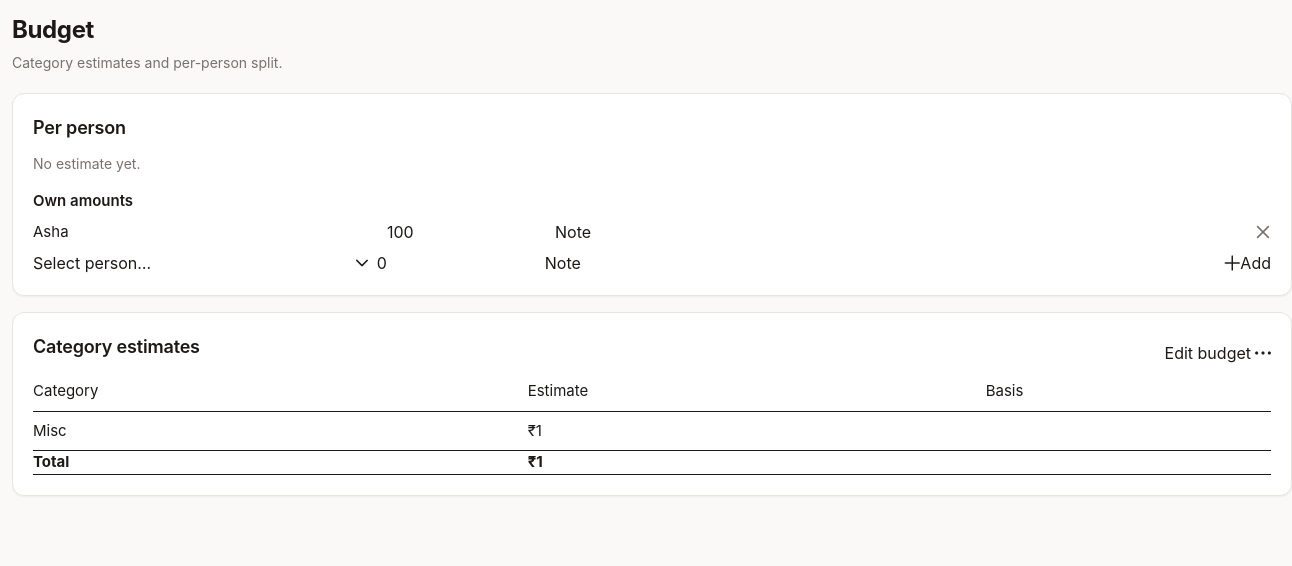
TripBudgetView › Edit budget reveals Save budget + Cancel and switches BudgetTable to editing
This screenshot has width=1292, height=566.
Click the button "Edit budget". click: [1208, 352]
box: 1164,342 -> 1251,362
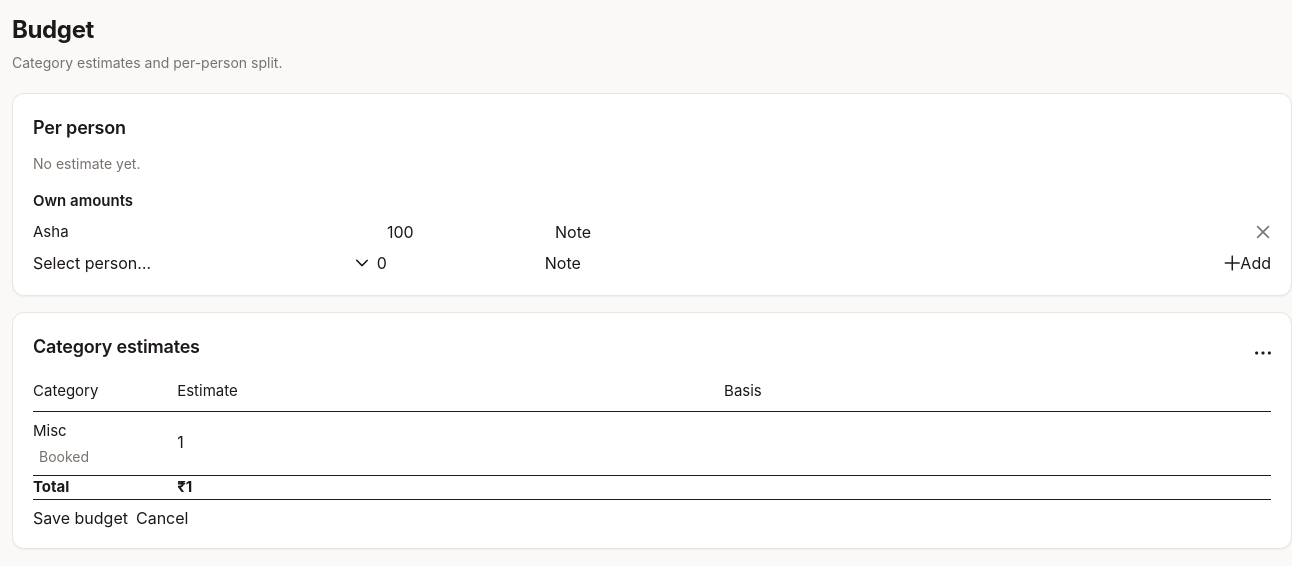
Check: the button "Save budget" is shown, box 33,508 -> 128,528
Check: the button "Cancel" is shown, box 136,508 -> 188,528
